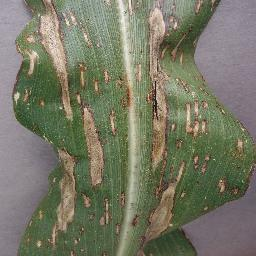Corn_Blight: (12, 0, 80, 122), (142, 0, 172, 171), (132, 175, 184, 238), (57, 144, 79, 228), (82, 107, 104, 187), (182, 94, 214, 138), (173, 25, 195, 64), (18, 207, 46, 232), (172, 75, 207, 95), (66, 228, 89, 256), (28, 230, 60, 250), (236, 137, 254, 171), (217, 178, 245, 199), (192, 149, 213, 175), (193, 0, 223, 16), (133, 236, 157, 256), (103, 70, 125, 89), (80, 190, 92, 224), (123, 1, 140, 22), (211, 98, 229, 116), (81, 24, 91, 54), (81, 63, 91, 93), (102, 198, 111, 231), (110, 113, 121, 137), (234, 118, 250, 134), (117, 187, 127, 212), (174, 1, 184, 26), (132, 59, 141, 83), (122, 90, 133, 108), (113, 219, 123, 237), (178, 155, 186, 177), (203, 202, 211, 217), (101, 250, 109, 256)
